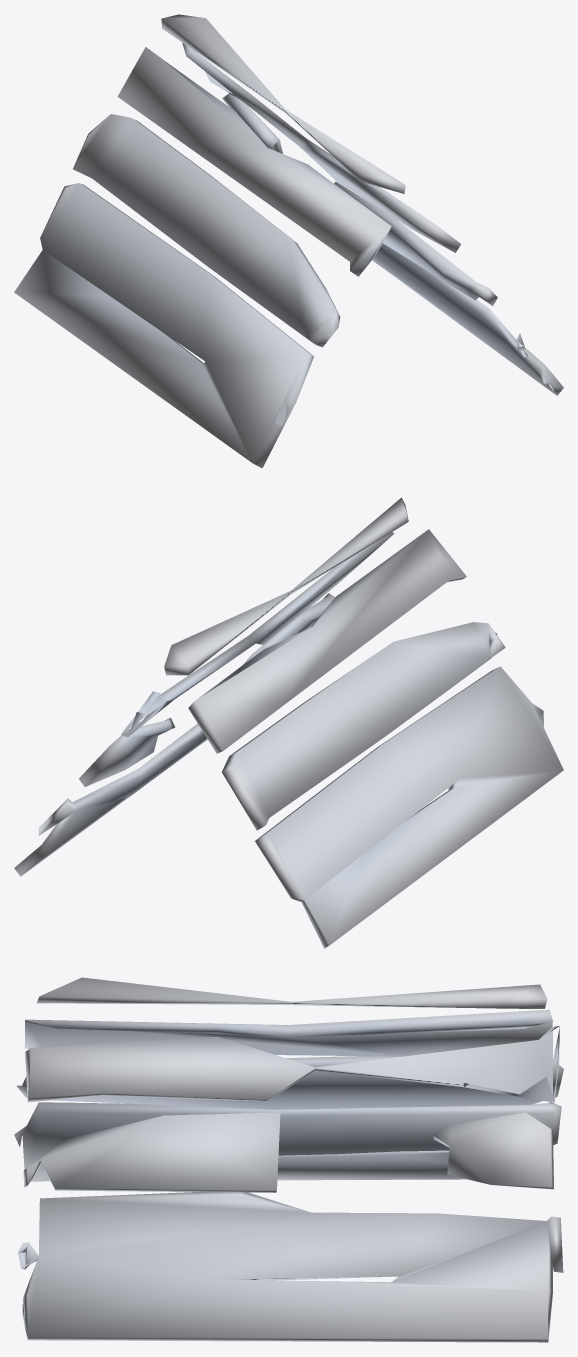
File: protocol.across.snow.glb
The picture shows the model from 3 angles, top to bottom: view 1: azimuth 30°, elevation 25°; view 2: azimuth 150°, elevation 25°; view 3: azimuth 270°, elevation 25°; orthographic projection. The views are drawn at different scales.
Visible parts, largest first — view 1: building.protocol.across.snow.mesh; view 2: building.protocol.across.snow.mesh; view 3: building.protocol.across.snow.mesh.
Part boxes in pixels (x1=…): building.protocol.across.snow.mesh: x1=14, y1=14, x2=563, y2=468; building.protocol.across.snow.mesh: x1=14, y1=497, x2=563, y2=948; building.protocol.across.snow.mesh: x1=14, y1=977, x2=563, y2=1342.
Size of the model in its own units: 2.01 by 1.53 by 2.79.
